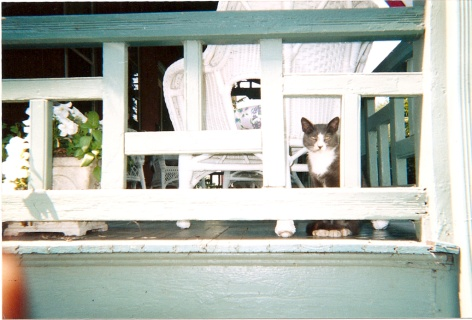Cat: (299, 118, 367, 237)
